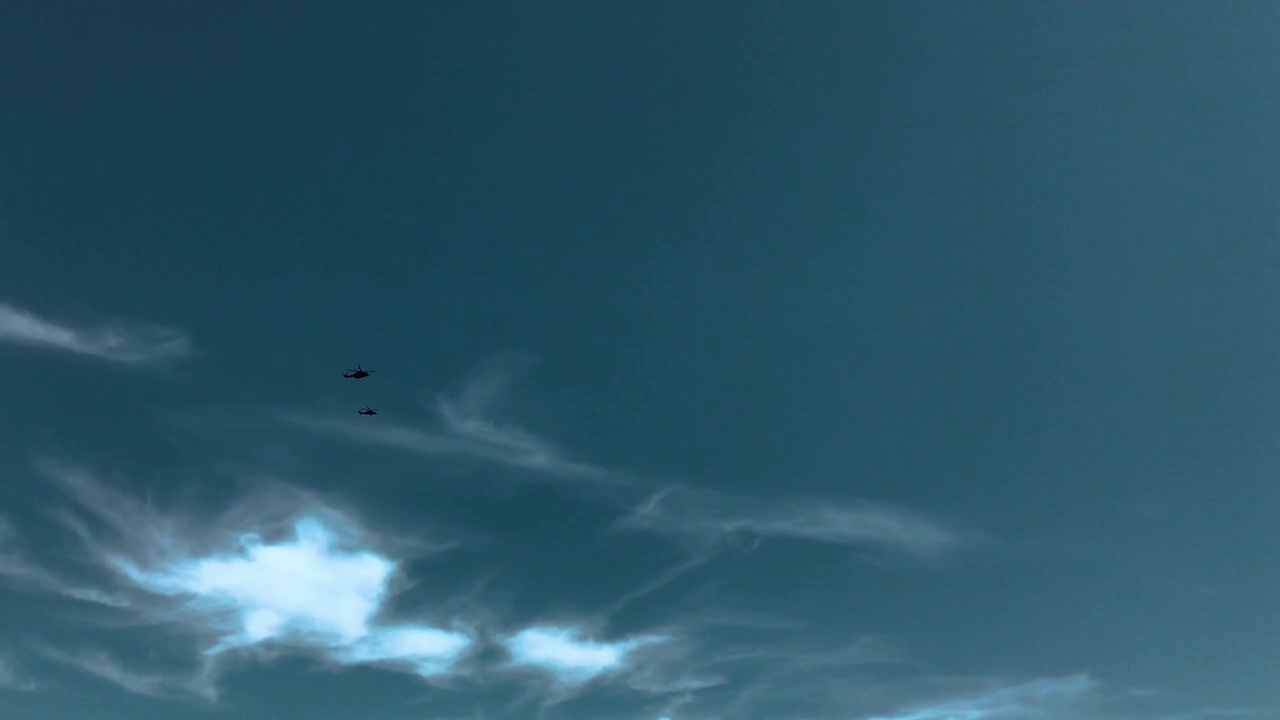heli: (342, 364, 375, 380), (358, 405, 378, 415)
